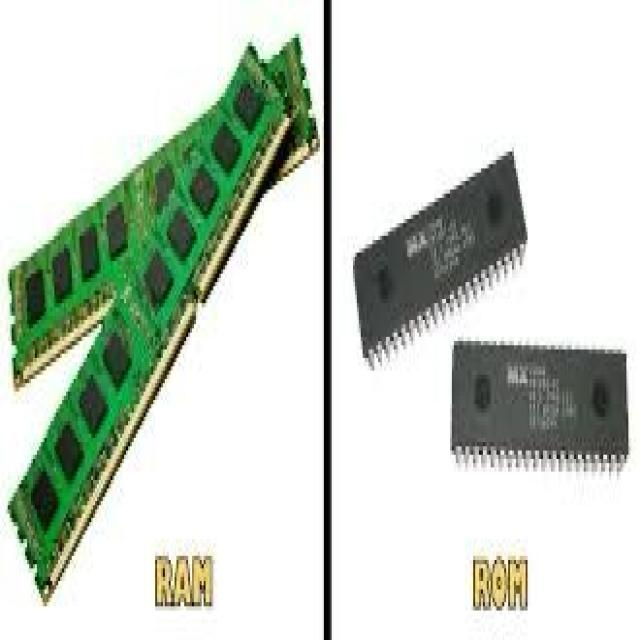Ram: (48, 35, 282, 484)
